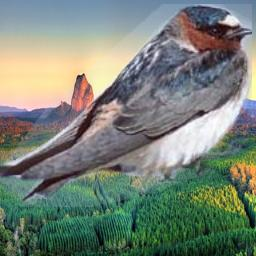Swallow: (0, 4, 252, 207)
